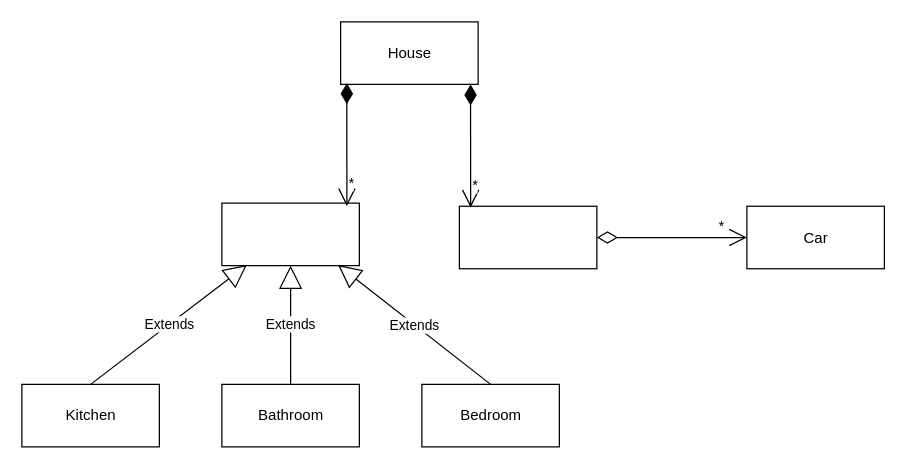
This 906x469 diagram has some shape labels left out. The shapes that lost their labels are listed below. From the top down, each one's centre as x and y in pixels, then its label:
the point at 290,234: Room
the point at 527,237: Garage
